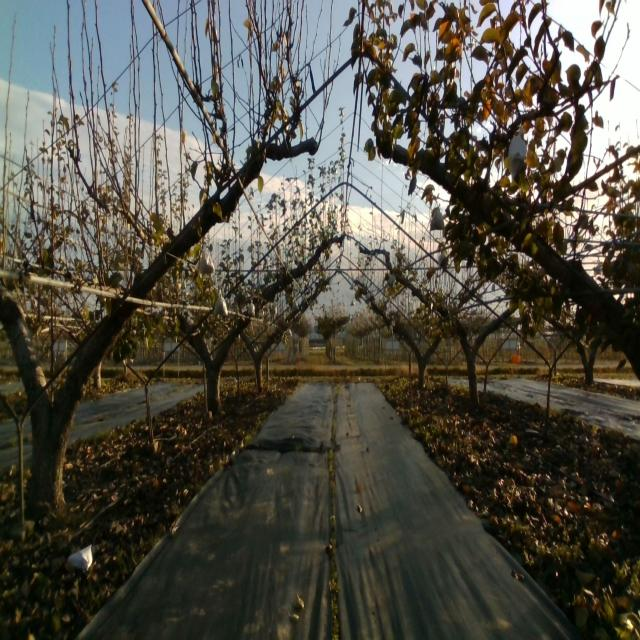pearbags: (508, 125, 528, 167), (212, 288, 228, 318), (199, 248, 215, 275), (430, 206, 445, 231)
